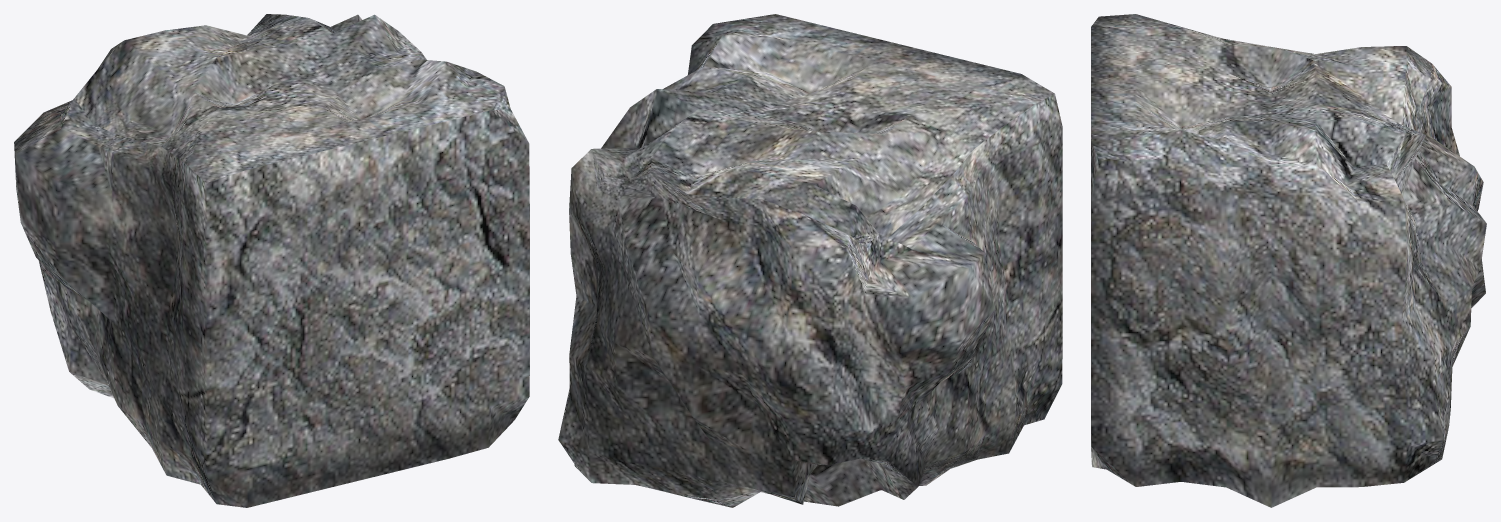
File: rock 1.fbx
The picture shows the model from 3 angles, left to right: view 1: azimuth 30°, elevation 25°; view 2: azimuth 150°, elevation 25°; view 3: azimuth 270°, elevation 25°; orthographic projection. The views are drawn at different scales.
Visible parts, largest first — view 1: Cube; view 2: Cube; view 3: Cube.
Boxes of the visible parts, x1,y1,x2,y2 form: Cube: (14,14,529,507); Cube: (558,14,1062,507); Cube: (1091,14,1486,507).
Bounding box in the file's own units: 240 × 216 × 220.
1 material, 1 textured.
